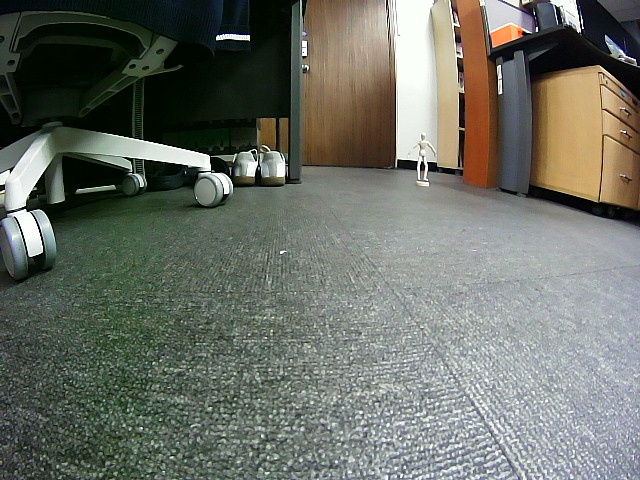person: (408, 132, 437, 182)
